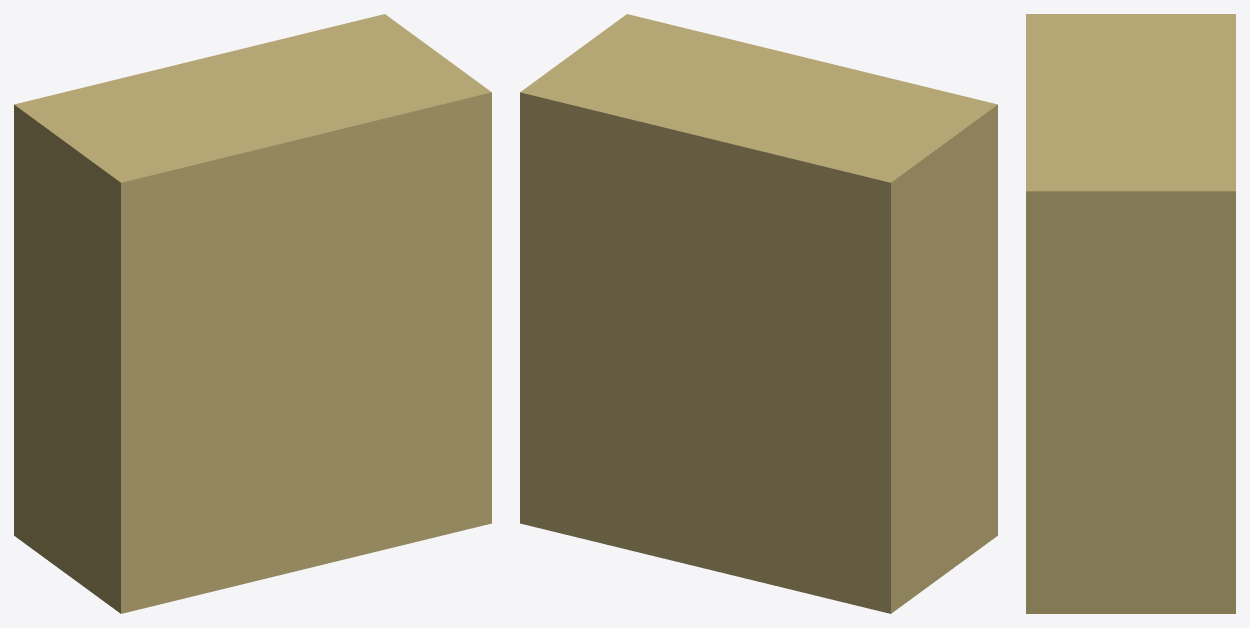
The picture shows the model from 3 angles, left to right: view 1: azimuth 30°, elevation 25°; view 2: azimuth 150°, elevation 25°; view 3: azimuth 270°, elevation 25°; orthographic projection. The views are drawn at different scales.
Visible parts, largest first — view 1: __delivery_mesh_6881; view 2: __delivery_mesh_6881; view 3: __delivery_mesh_6881.
Boxes of the visible parts, <box> form: __delivery_mesh_6881: <box>14,14,491,613</box>; __delivery_mesh_6881: <box>520,14,997,613</box>; __delivery_mesh_6881: <box>1026,14,1235,613</box>.
Bounding box in the file's own units: 0.09 × 0.1 × 0.045.
